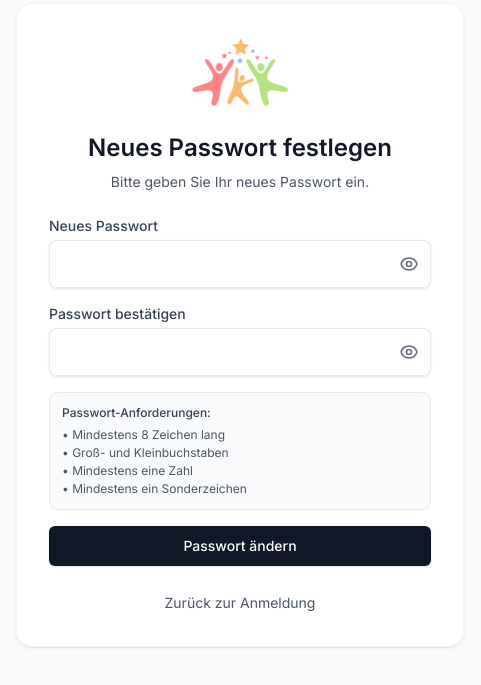
Test: ResetPasswordPage › validates passwords must match
Type "ValidPass1!" into the password field labelled "Neues Passwort" at (240, 264), box [49,240,431,288]
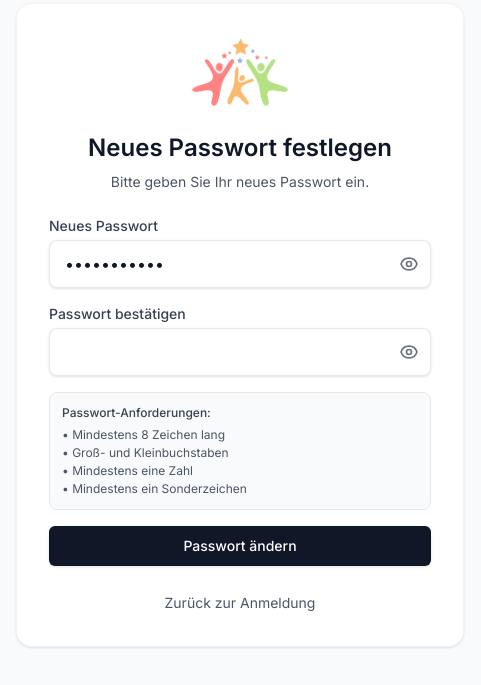
Type "Different1!" into the password field labelled "Passwort bestätigen" at (240, 352), box [49,328,431,376]
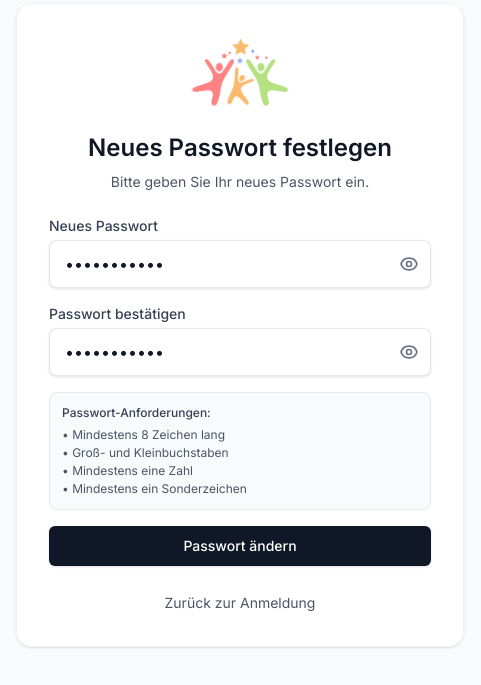
Click the button "Passwort ändern" at (240, 546), box [49,526,431,566]
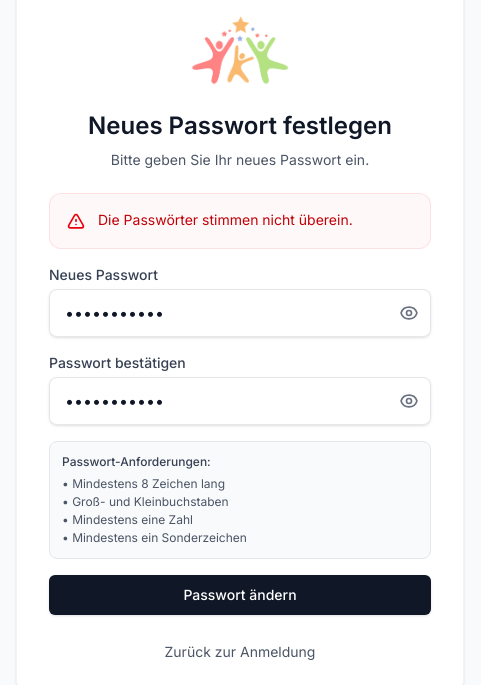
Expected: the text "Die Passwörter stimmen nicht überein." is shown, [98,210,353,230]
